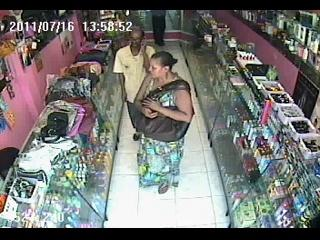Normal: (130, 50, 194, 194), (112, 26, 156, 133), (150, 10, 167, 46), (75, 50, 109, 66)
